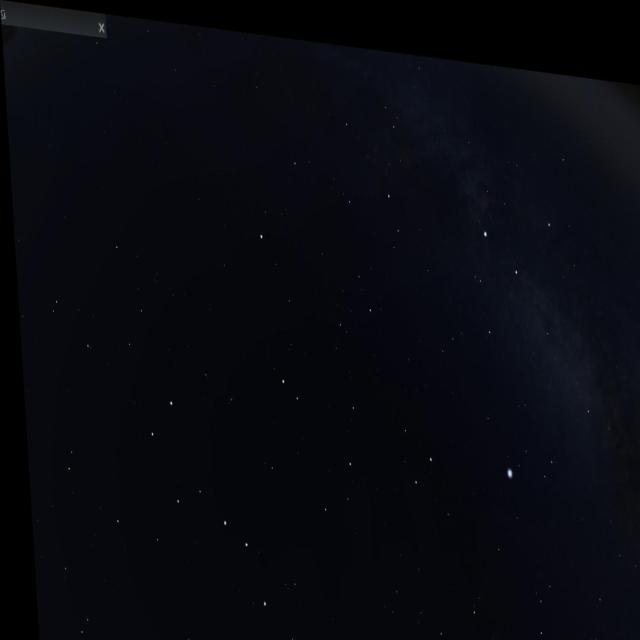cygnus: (472, 180, 593, 416)
lyra: (497, 410, 561, 487)
ursa_major: (137, 382, 262, 613)
